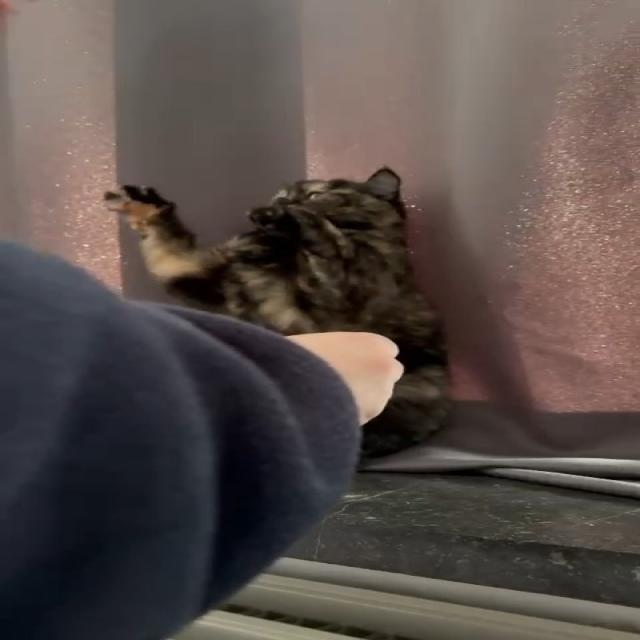authorized: (101, 165, 455, 459)
